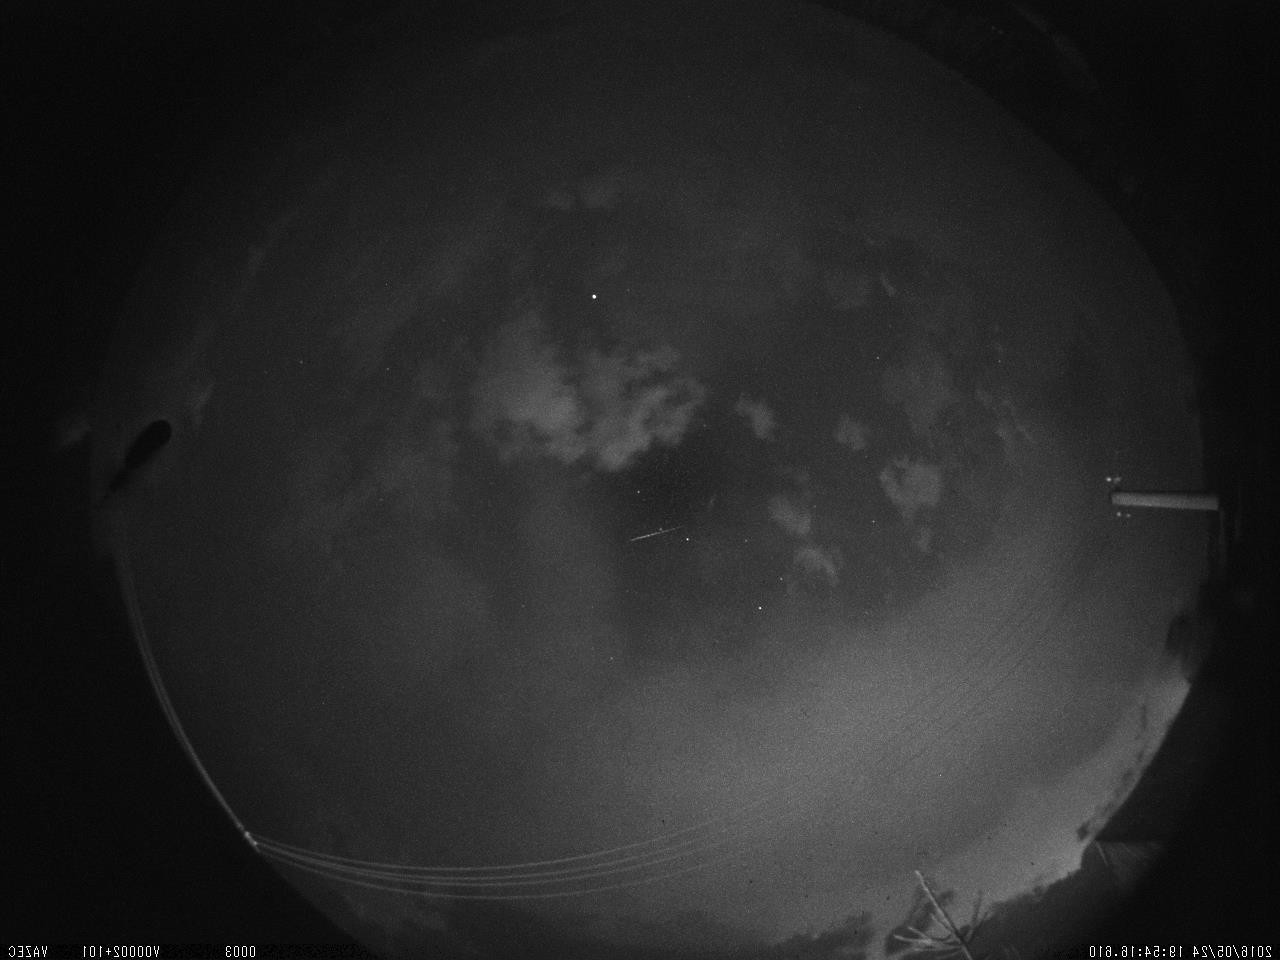meteor: (615, 510, 700, 565)
